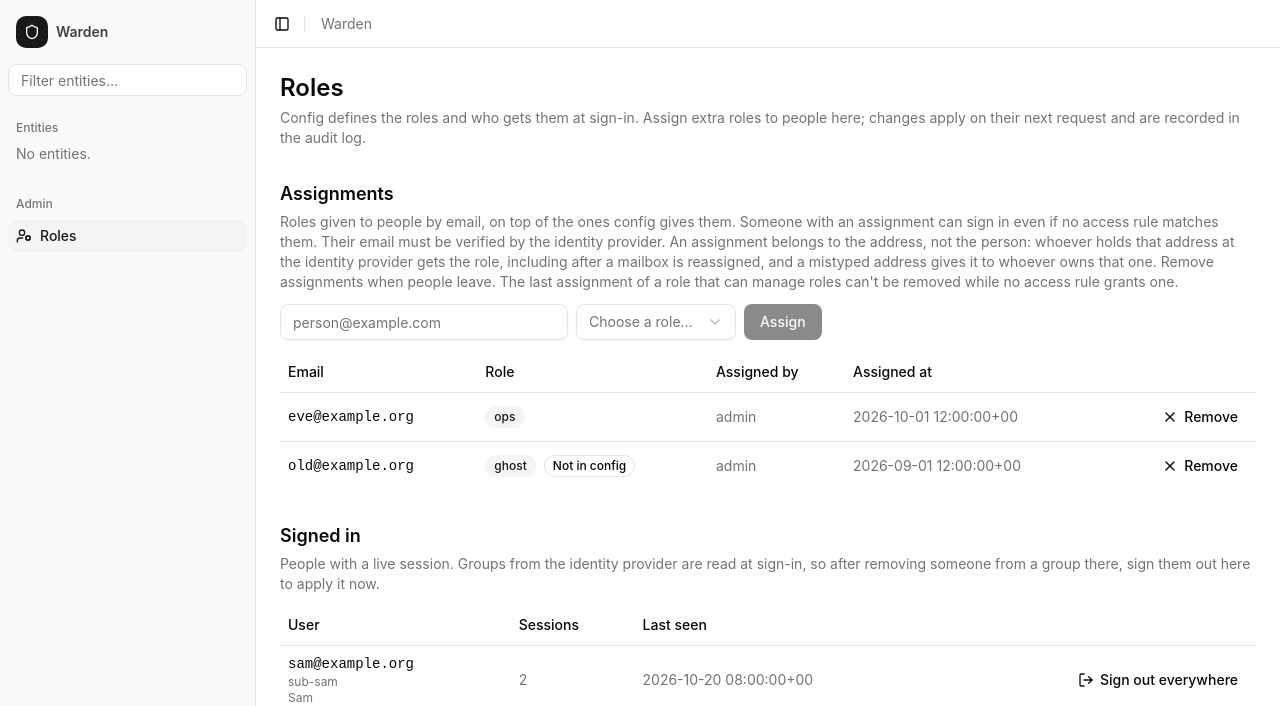
Scenario: roles page › assigns a role and refreshes the list
Expected: the button "Assign" is disabled, [744,304,822,340]
Type "new@example.org" into the field named "Email" at (424, 322), box [280,304,568,340]
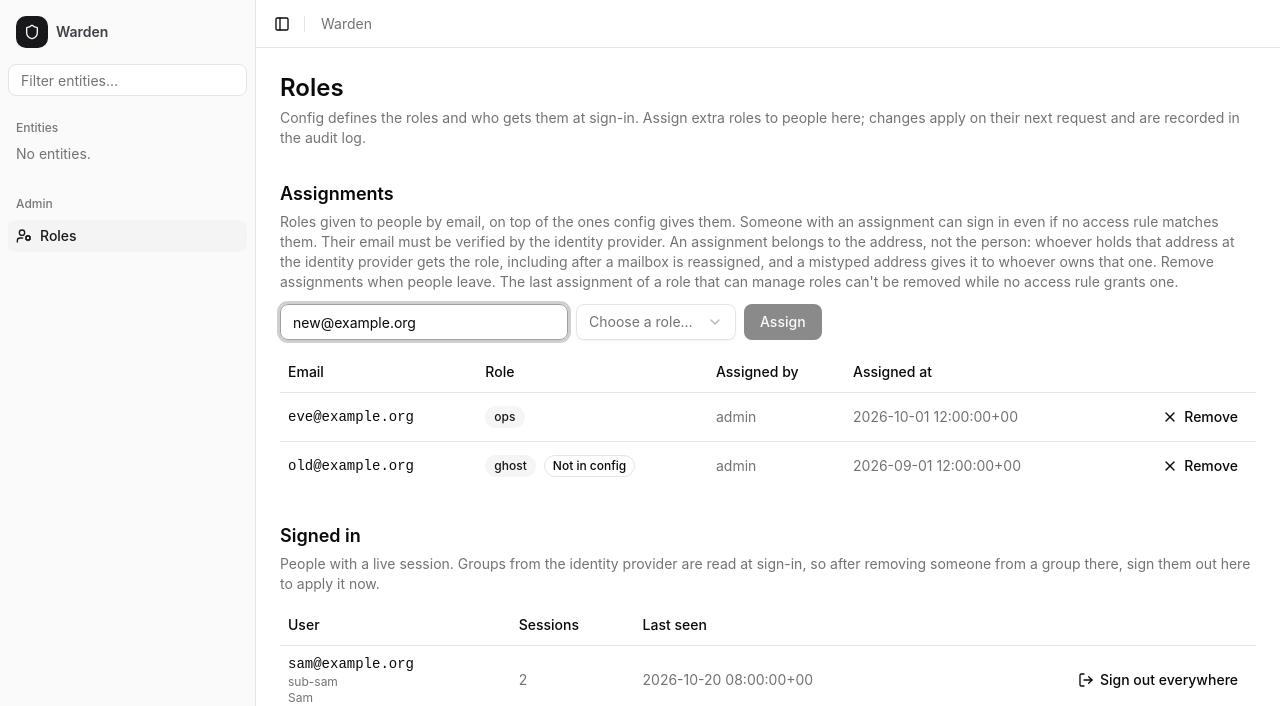
Click the dropdown labelled "role" at (656, 322), box [576,304,736,340]
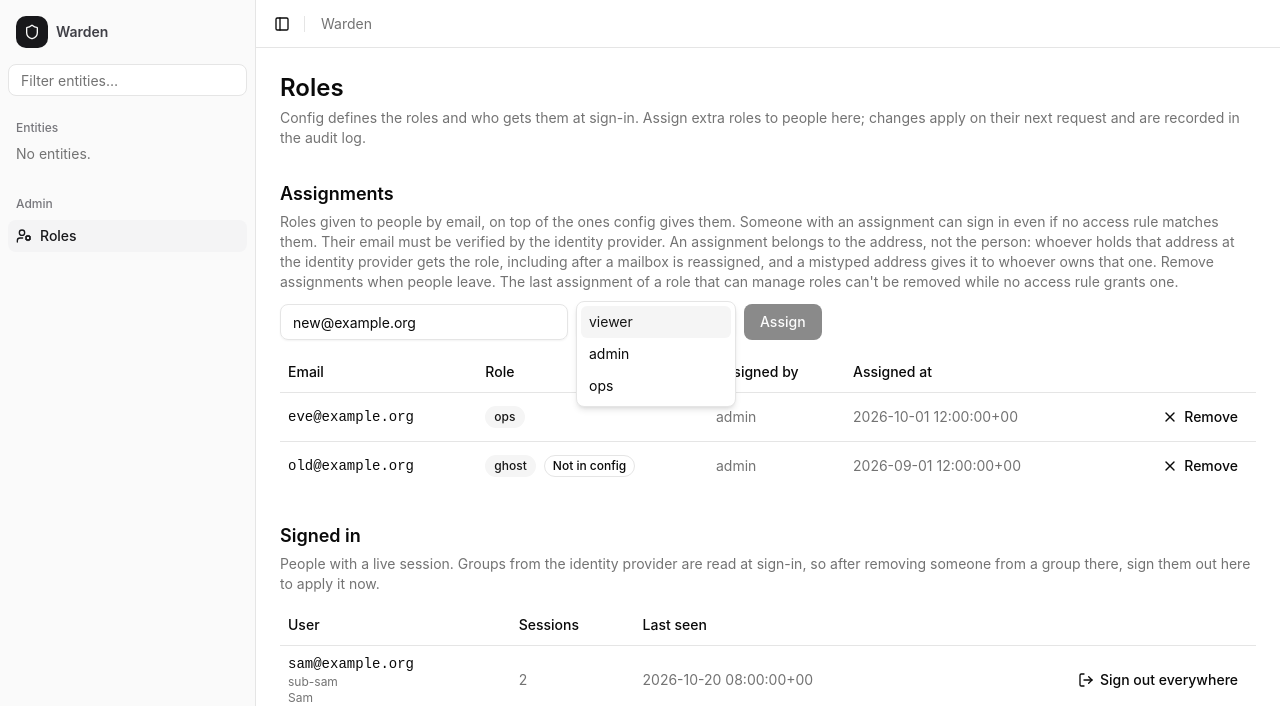
Click the option "viewer" at (656, 322), box [581,306,731,338]
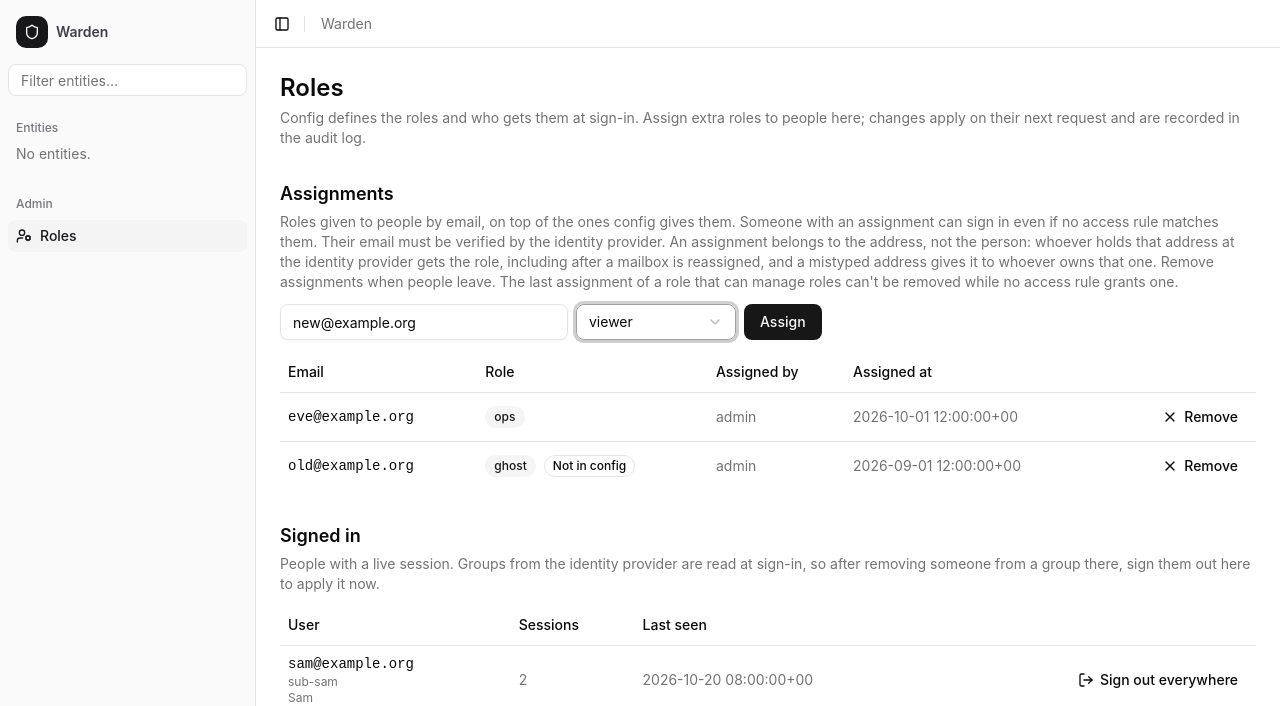
Click the button "Assign" at (783, 322), box [744,304,822,340]
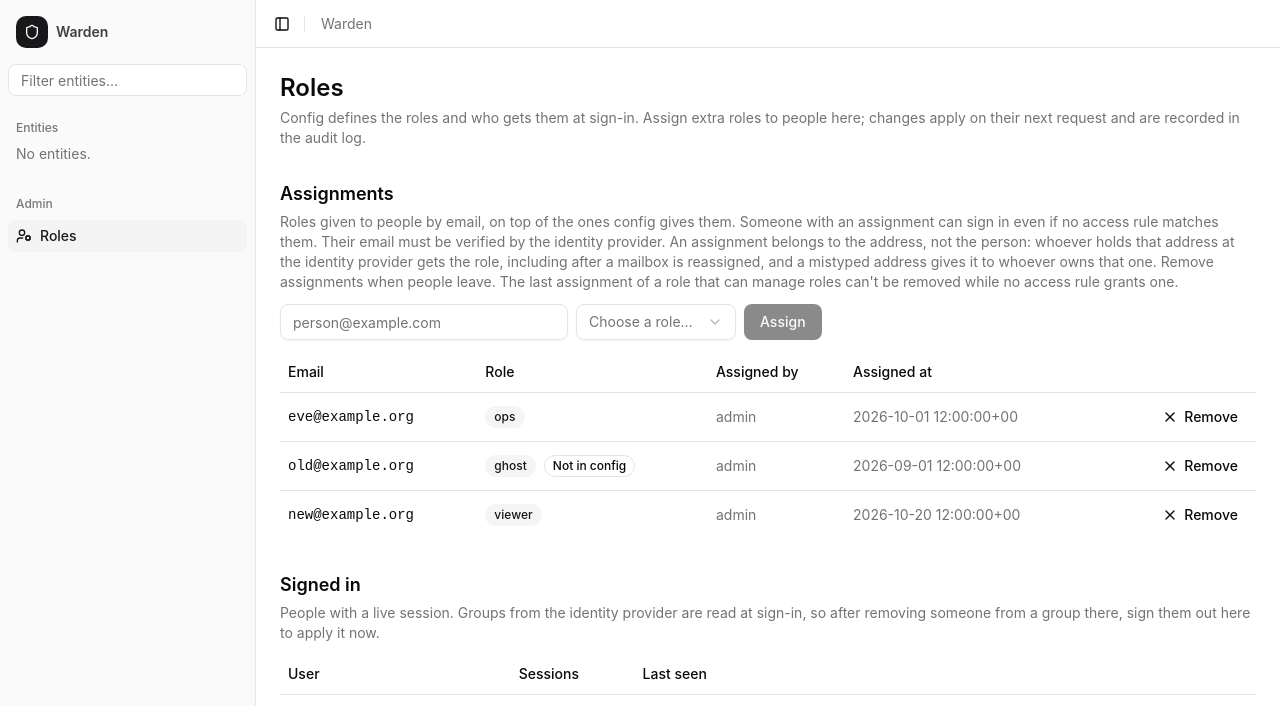
Expected: the text "new@example.org" is shown, [280,490,477,538]
Expected: the field named "Email" is empty, [280,304,568,340]
